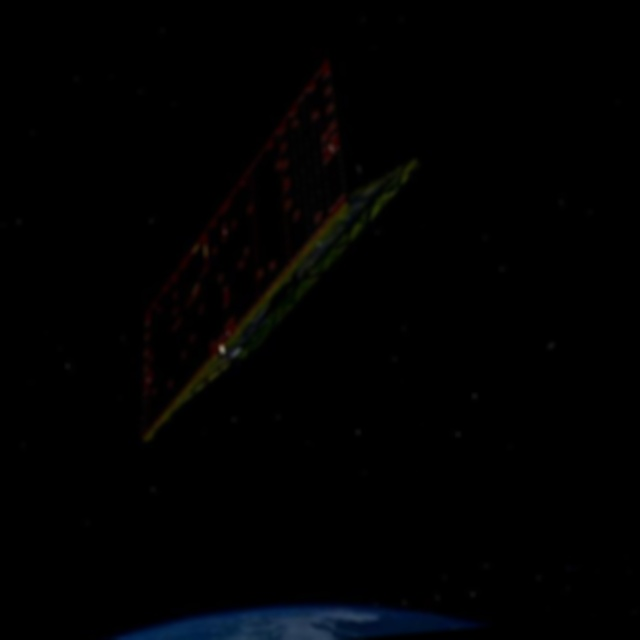satellite: (66, 0, 472, 509)
